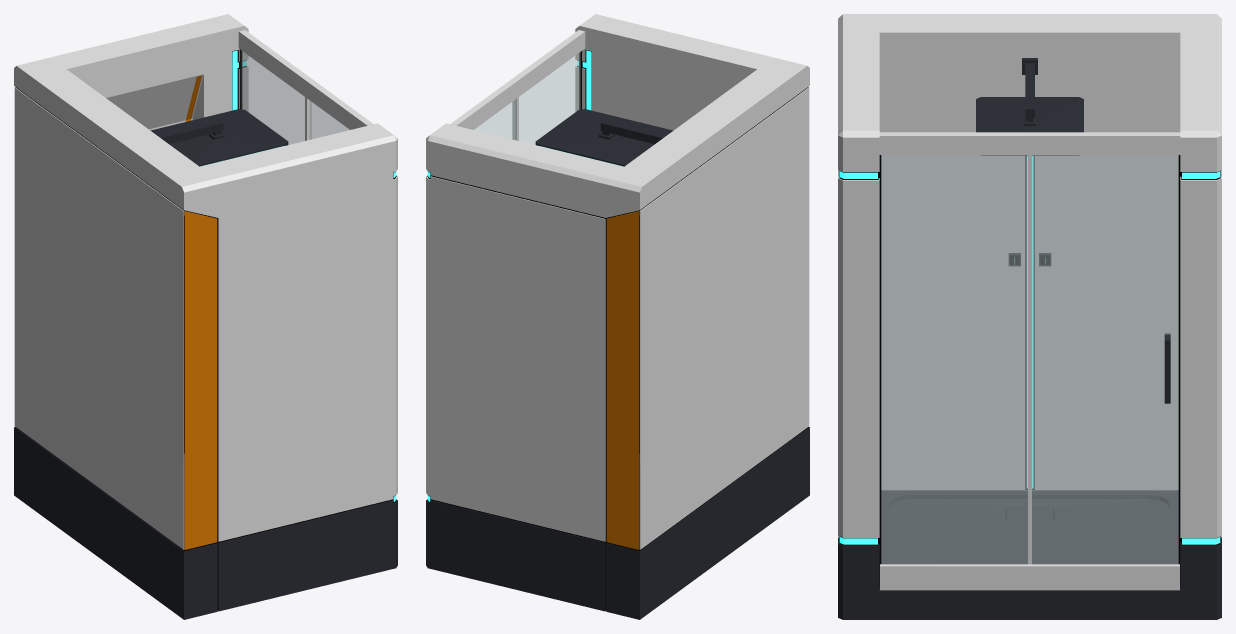
Rendered from SM_Shower_Module.fbx.
3 views of the same model, side by side, from view 1: azimuth 30°, elevation 25°; view 2: azimuth 150°, elevation 25°; view 3: azimuth 270°, elevation 25° (orthographic). The views are drawn at different scales.
Visible parts, largest first — view 1: SM_Shower_Module_Base, SM_Shower_Module_Door; view 2: SM_Shower_Module_Base, SM_Shower_Module_Door; view 3: SM_Shower_Module_Base, SM_Shower_Module_Door.
Part boxes in pixels (x1,y1,x2,y2): SM_Shower_Module_Base: (14, 14, 397, 619); SM_Shower_Module_Door: (240, 50, 309, 144); SM_Shower_Module_Base: (426, 14, 809, 619); SM_Shower_Module_Door: (474, 97, 518, 140); SM_Shower_Module_Base: (838, 14, 1221, 619); SM_Shower_Module_Door: (1032, 155, 1178, 564).
Bounding box in the file's own units: 110 × 210 × 150.
